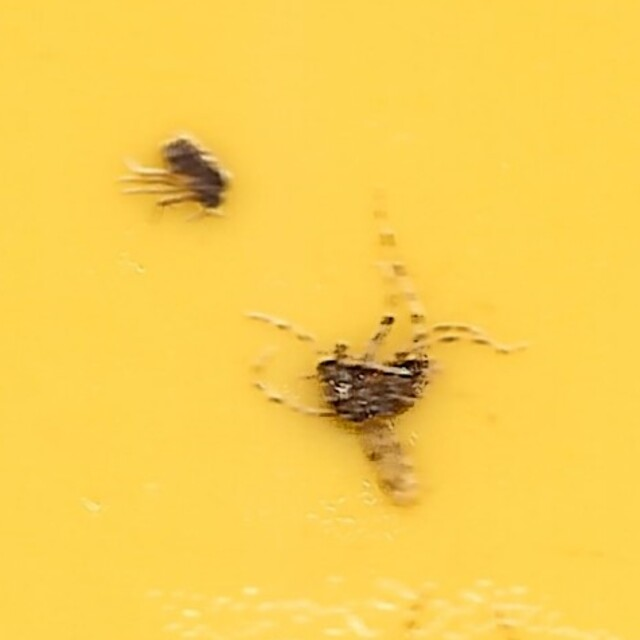Brachycera: (134, 134, 234, 222)
Nematocera: (239, 219, 506, 506)
